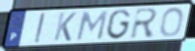G: (105, 9, 132, 41)
I: (33, 12, 46, 45)
K: (52, 11, 78, 42)
M: (74, 10, 109, 42)
O: (159, 6, 185, 38)
R: (129, 7, 160, 41)
